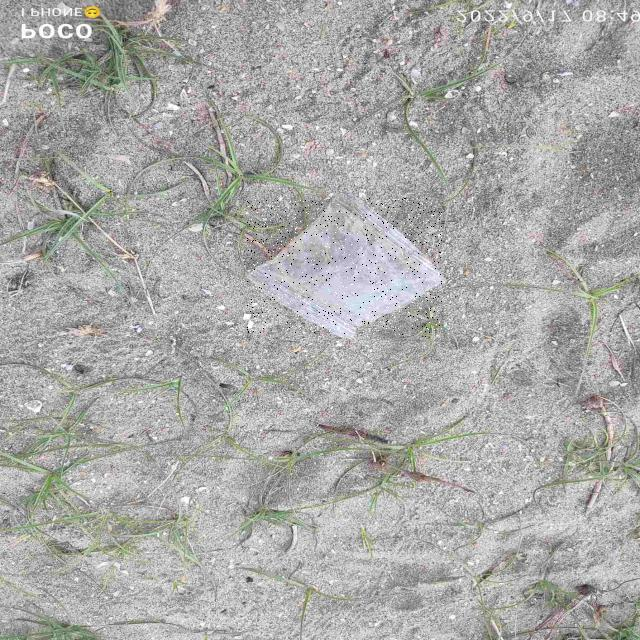plastic: (247, 198, 442, 337)
